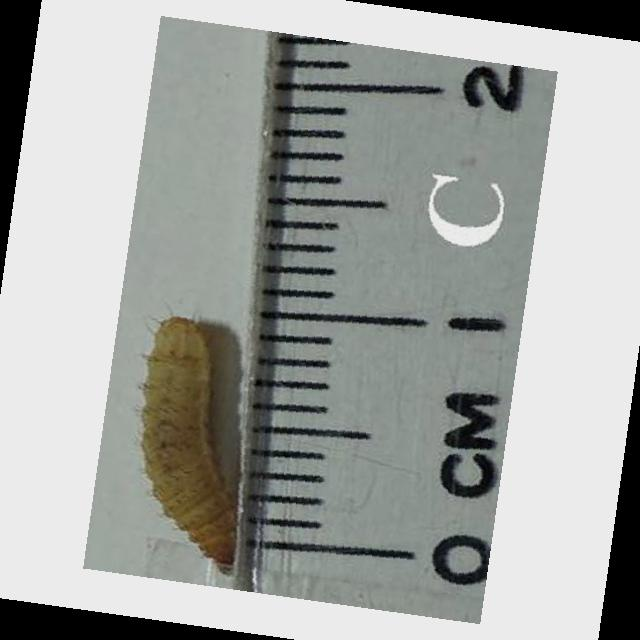Maggot: (138, 312, 245, 572)
